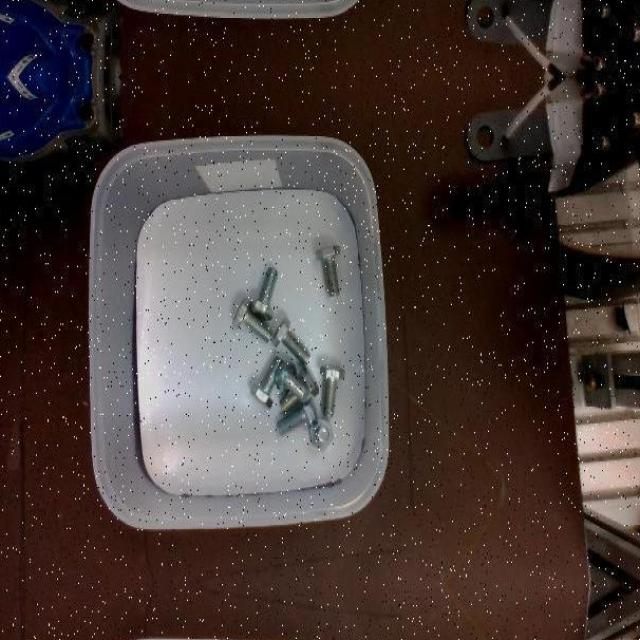screw: (232, 297, 270, 343), (272, 317, 310, 362), (274, 360, 310, 402), (250, 266, 278, 319), (320, 364, 345, 418), (316, 245, 341, 296), (309, 417, 334, 451)
